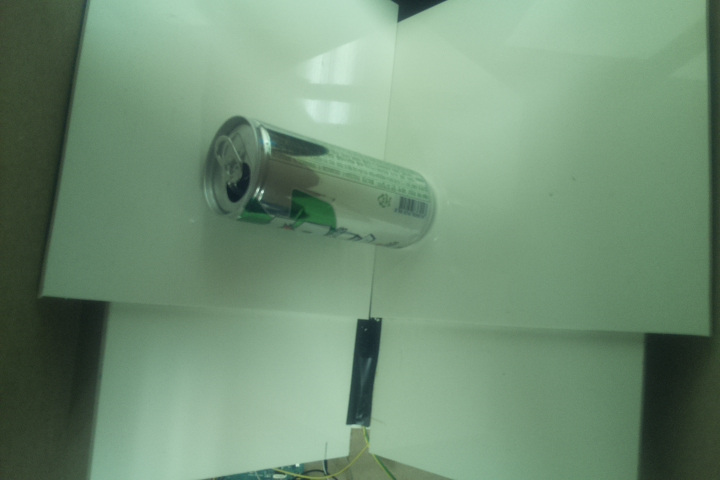can: (198, 113, 442, 254)
